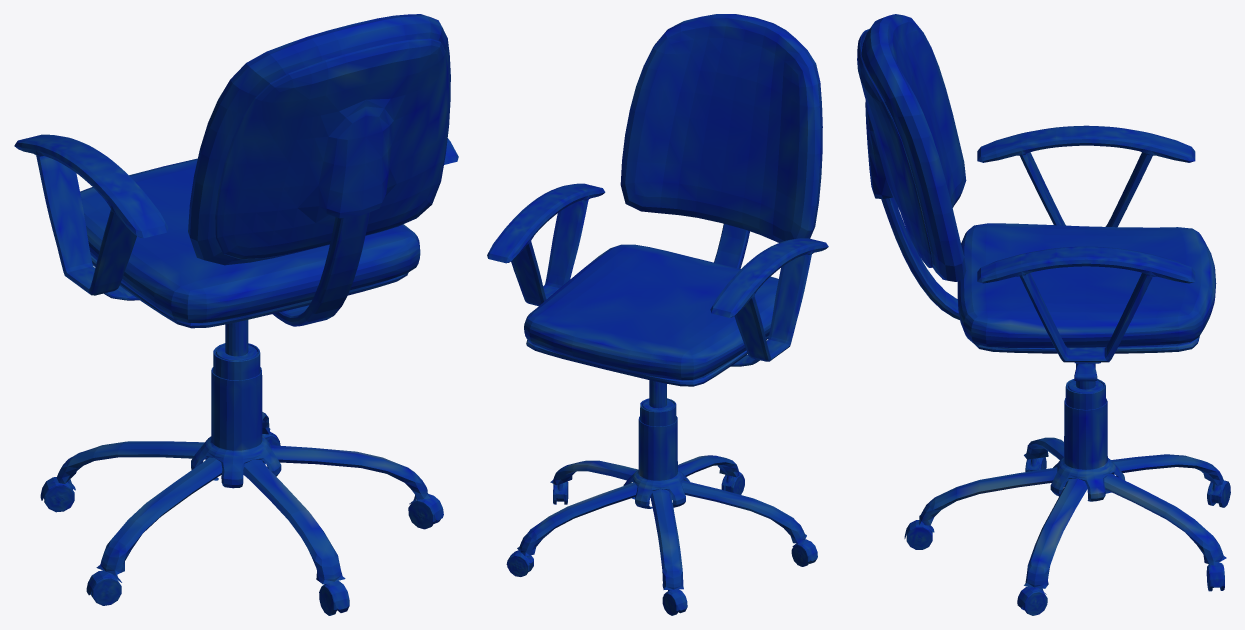
File: chair5_final200.obj
The picture shows the model from 3 angles, left to right: view 1: azimuth 30°, elevation 25°; view 2: azimuth 150°, elevation 25°; view 3: azimuth 270°, elevation 25°; orthographic projection. The views are drawn at different scales.
Size of the model in its own units: 0.7977 by 1.33 by 0.8718.
